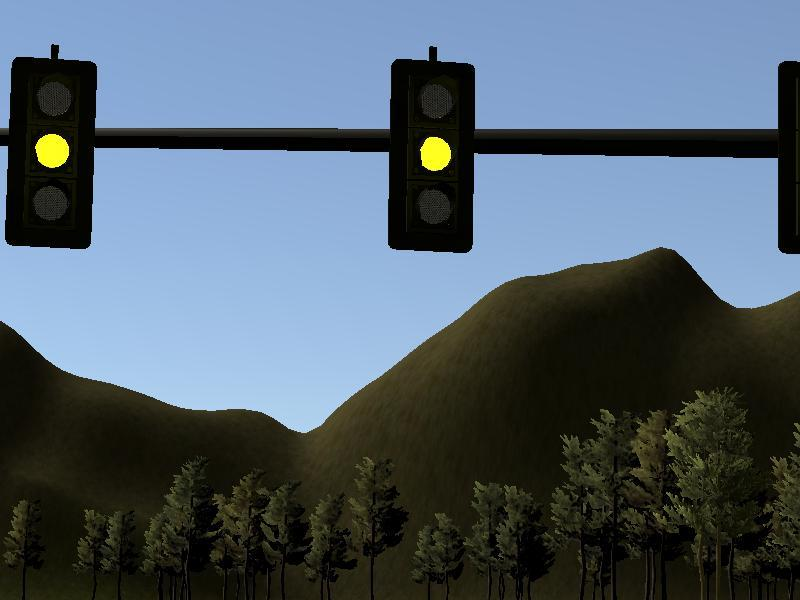Yellow: (3, 55, 97, 249), (387, 58, 475, 254)
